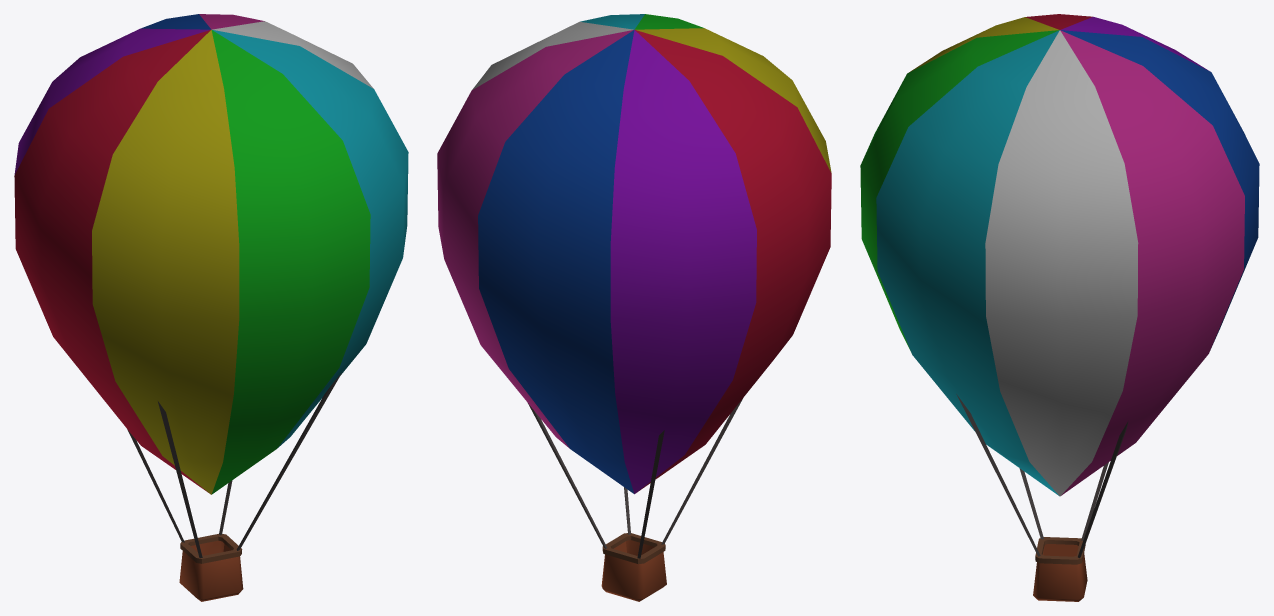
File: balloon_01.fbx
3 renders of one model, left to right at view 1: azimuth 30°, elevation 25°; view 2: azimuth 150°, elevation 25°; view 3: azimuth 270°, elevation 25°, orthographic.
Visible parts, largest first — view 1: balloon_01; view 2: balloon_01; view 3: balloon_01.
Boxes of the visible parts, x1,y1,x2,y2 form: balloon_01: [14, 14, 408, 601]; balloon_01: [437, 14, 831, 601]; balloon_01: [860, 14, 1259, 601].
Bounding box in the file's own units: 705 × 1097 × 705.
